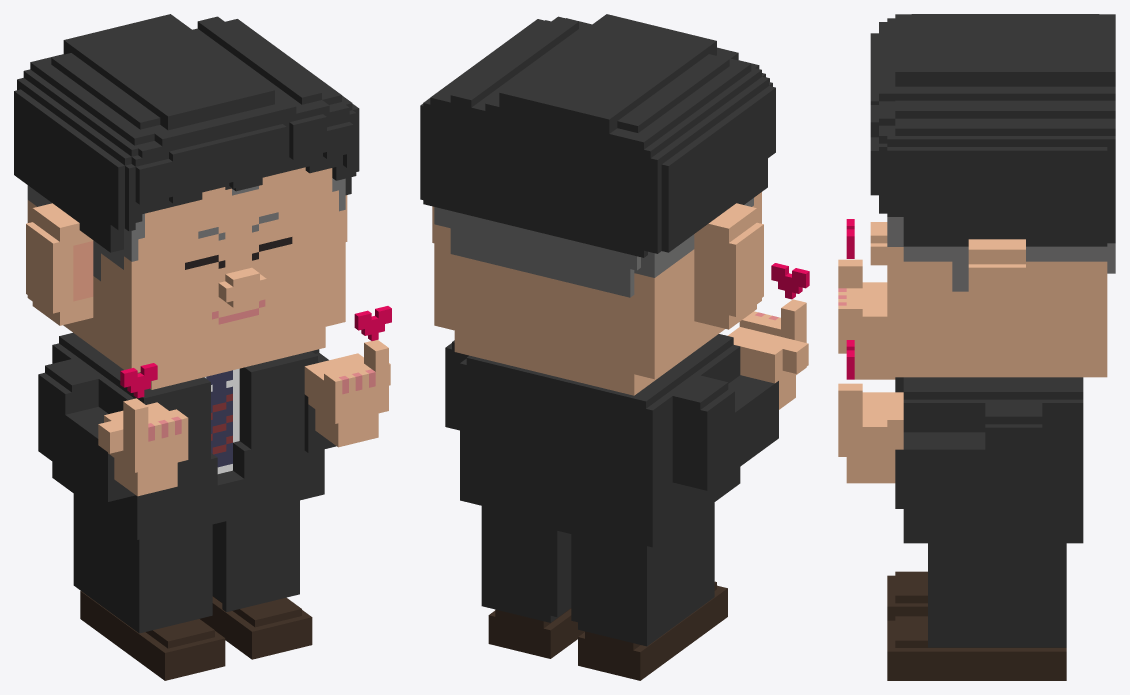
The model's file is voxel-compressed.glb.
The picture shows the model from 3 angles, left to right: view 1: azimuth 30°, elevation 25°; view 2: azimuth 150°, elevation 25°; view 3: azimuth 270°, elevation 25°; orthographic projection. The views are drawn at different scales.
Visible parts, largest first — view 1: Object_2; view 2: Object_2; view 3: Object_2.
Part boxes in pixels (x1,y1,x2,y2): Object_2: [14, 14, 391, 680]; Object_2: [420, 14, 809, 680]; Object_2: [838, 14, 1115, 680].
Size of the model in its own units: 0.5946 by 1.08 by 0.4594.
Materials: 1 (1 with a texture image).
